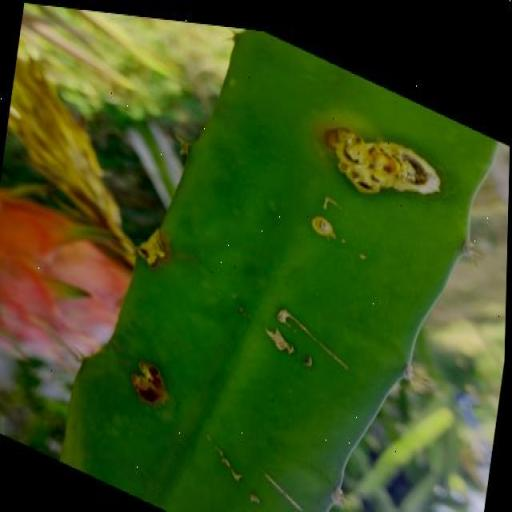stemcanker: (202, 22, 233, 94), (275, 120, 298, 156)
